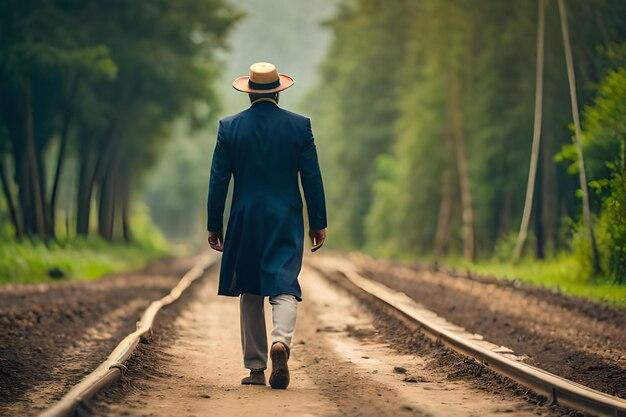NoHuman: (0, 3, 626, 417)
